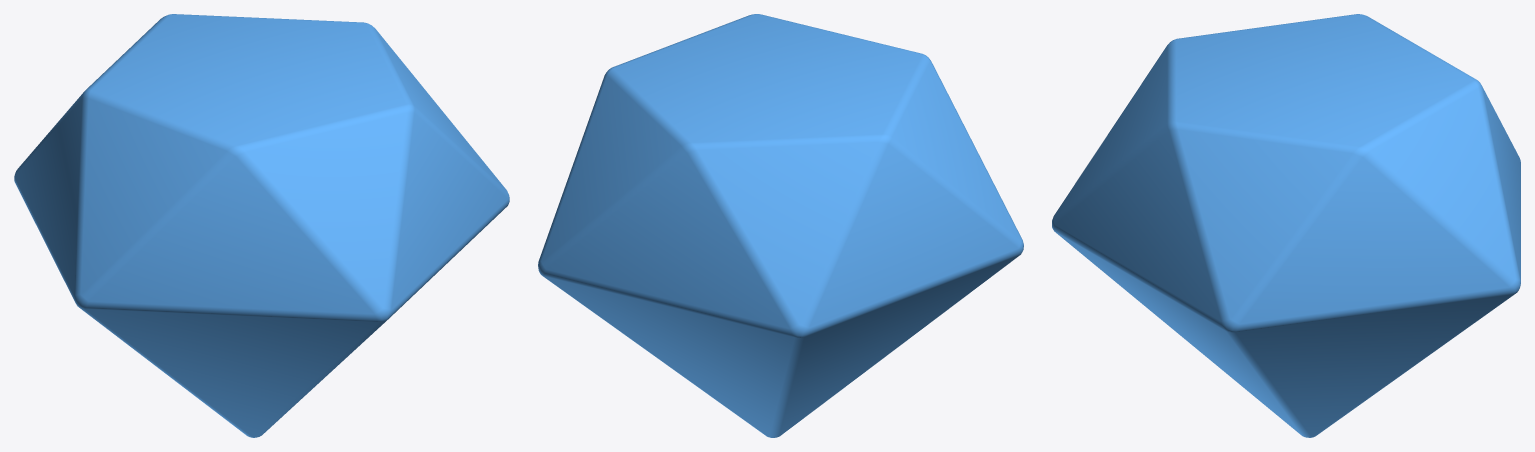
File: diamond_teamBlue-col.glb
The picture shows the model from 3 angles, left to right: view 1: azimuth 30°, elevation 25°; view 2: azimuth 150°, elevation 25°; view 3: azimuth 270°, elevation 25°; orthographic projection.
Visible parts, largest first — view 1: diamond_teamBlue-col; view 2: diamond_teamBlue-col; view 3: diamond_teamBlue-col.
Part boxes in pixels (x1,y1,x2,y2): diamond_teamBlue-col: (14,14,509,437); diamond_teamBlue-col: (538,14,1023,437); diamond_teamBlue-col: (1052,14,1520,437).
Size of the model in its own units: 1.13 by 0.9057 by 1.08.
